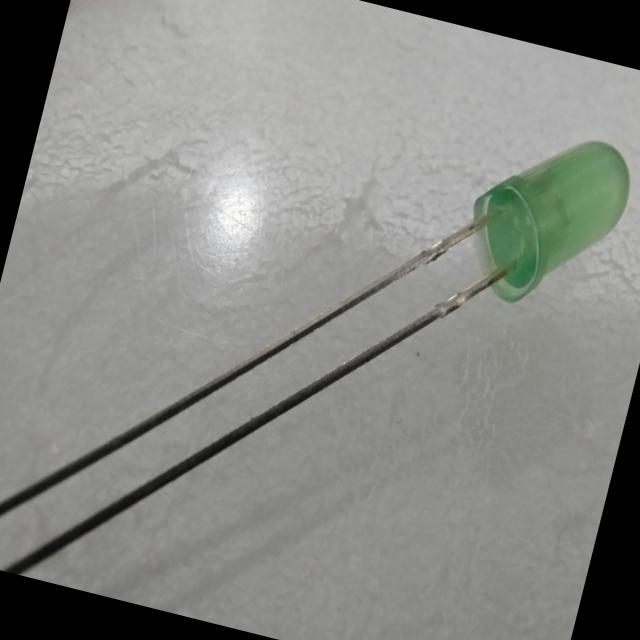green_led: (433, 99, 640, 343)
